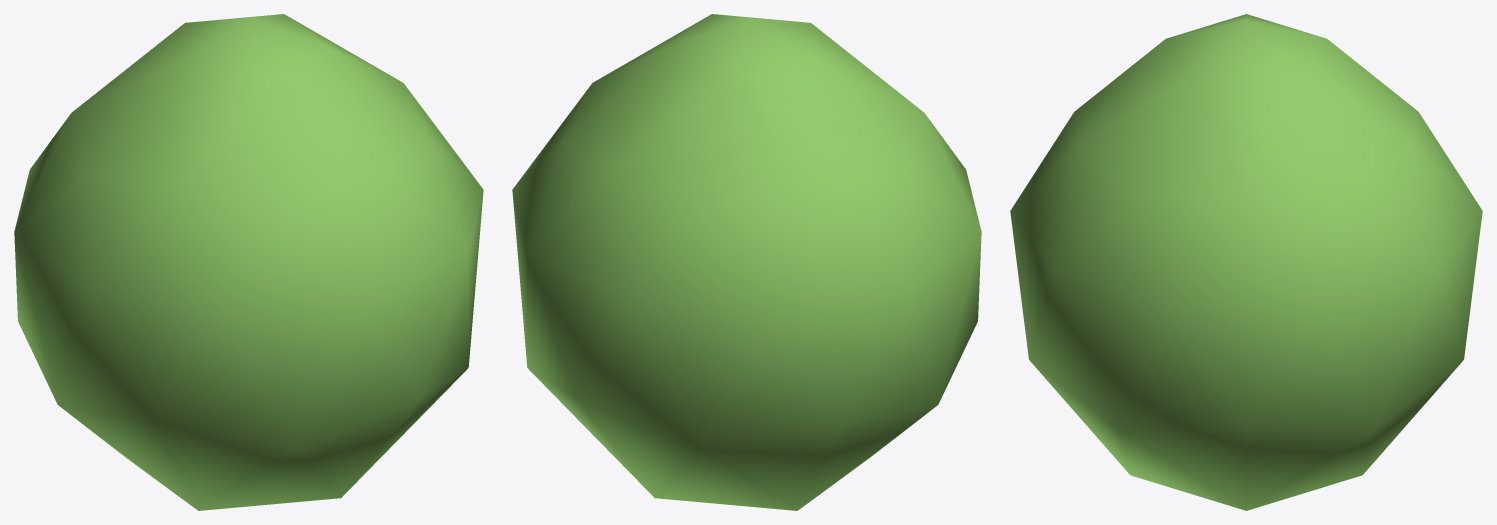
Rendered from thuja-bushtree-s-05.glb.
3 views of the same model, side by side, from view 1: azimuth 30°, elevation 25°; view 2: azimuth 150°, elevation 25°; view 3: azimuth 270°, elevation 25° (orthographic).
Parts seen in each view (by area): view 1: Thuja_BushTree_s_05; view 2: Thuja_BushTree_s_05; view 3: Thuja_BushTree_s_05.
Part boxes in pixels (box(x1,y1,x2,y2)): Thuja_BushTree_s_05: box(14, 14, 483, 510); Thuja_BushTree_s_05: box(512, 14, 981, 510); Thuja_BushTree_s_05: box(1010, 14, 1482, 510).
Size of the model in its own units: 1.71 by 1.85 by 1.78.
1 material, 1 textured.
